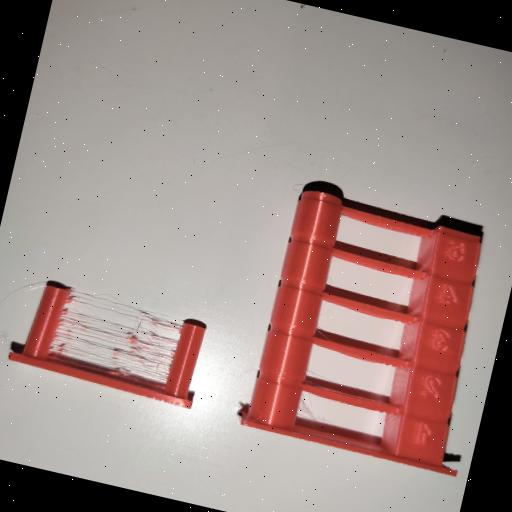stringing: (51, 286, 187, 378)
